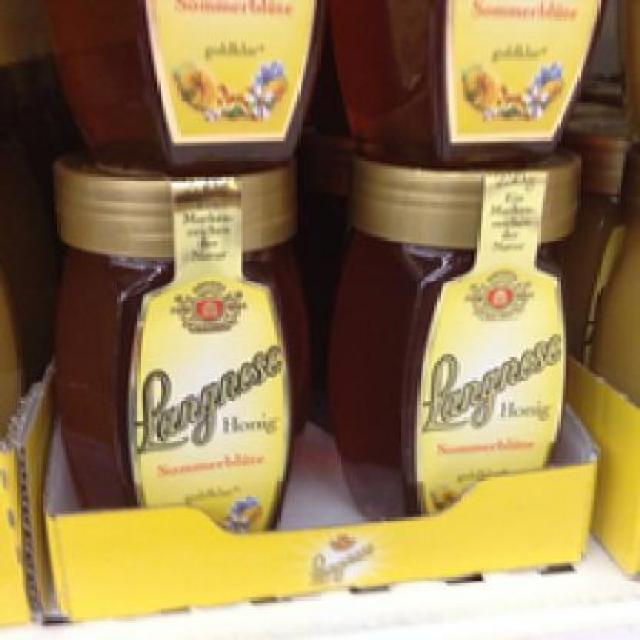Honey: (34, 160, 314, 543), (323, 152, 588, 514)
